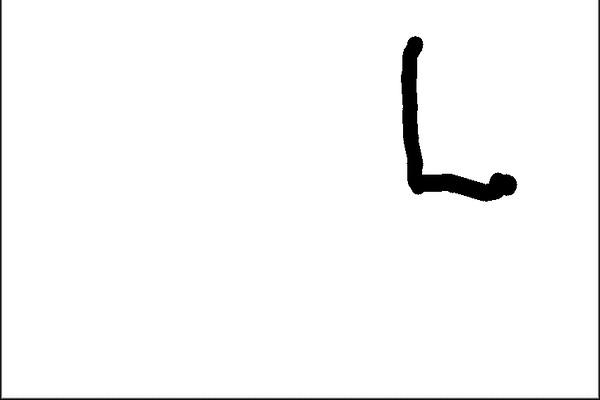L: (394, 26, 520, 207)
